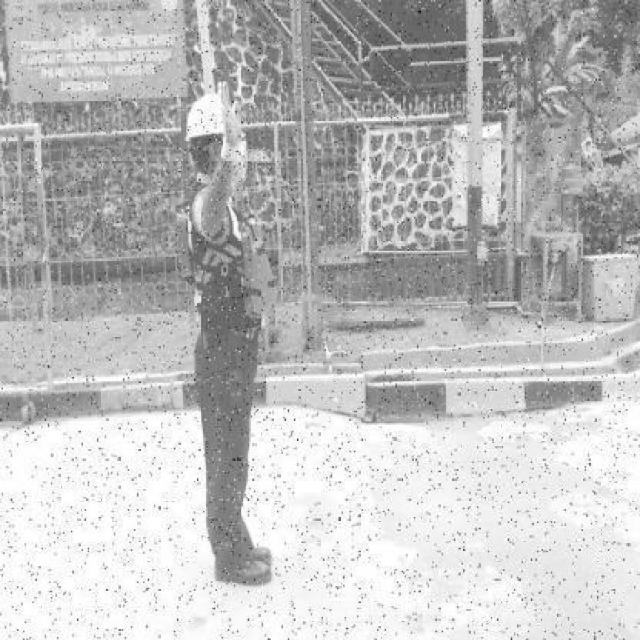Boots: (212, 554, 272, 588), (248, 544, 274, 564)
Gloves: (216, 83, 242, 165)
Helmet: (182, 91, 228, 140)
Mask: (231, 151, 247, 184)
Vest: (168, 204, 282, 321)
